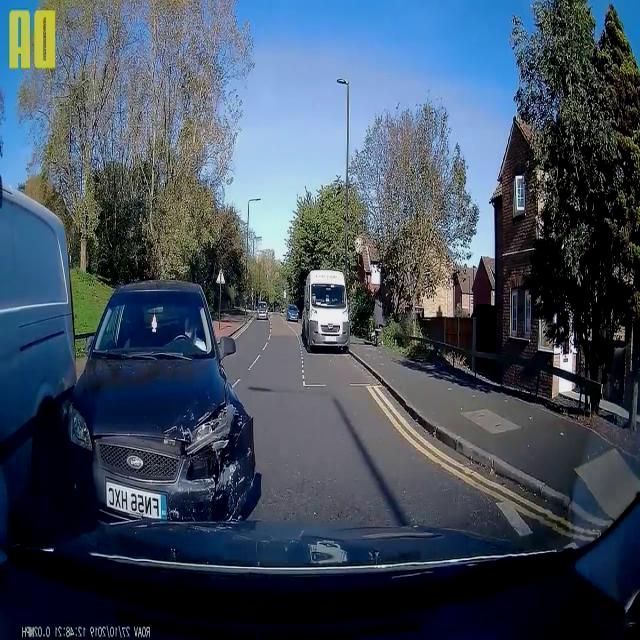accident: (1, 180, 260, 542)
non-accident: (285, 266, 351, 354)
